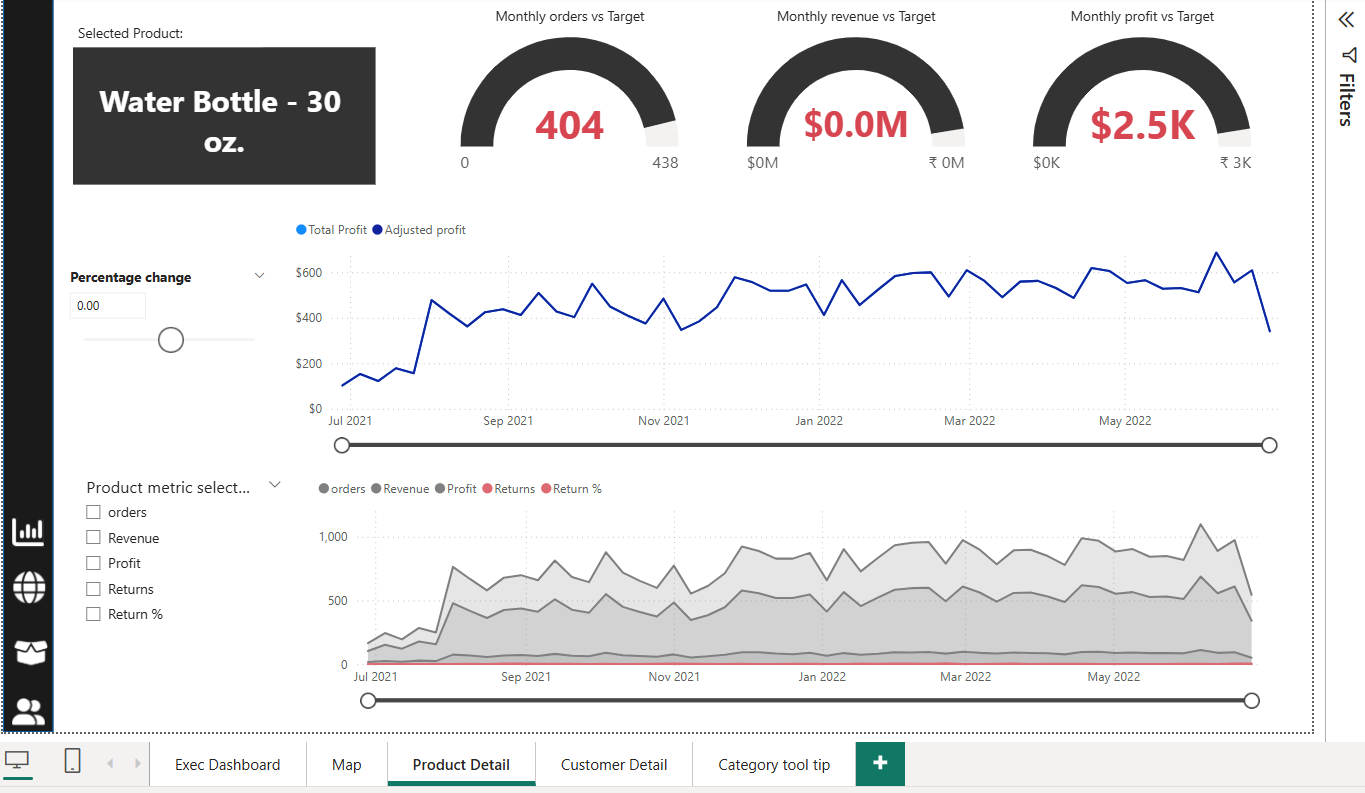

What the dashboard file says about the page in this screenshot:
{"tool":"powerbi","page":{"name":"Product Detail","canvas":[1280,720],"ordinal":2},"visuals":[{"type":"gauge","title":"Monthly revenue vs Target ","fields":{"Y":["Measures Table.Total Revenue"],"MaxValue":["Measures Table.Target Revenue"]},"box":[722.7,9.8,223.8,182.2],"z":0},{"type":"actionButton","box":[4.3,679.6,41.8,40.4],"z":0,"group":"g1"},{"type":"gauge","title":"Monthly orders vs Target ","fields":{"Y":["Measures Table.Total orders"],"MaxValue":["Measures Table.Target Orders"]},"box":[442.7,9.8,223.8,182.2],"z":1000},{"type":"actionButton","box":[7.2,621.9,41.8,40.4],"z":1000,"group":"g1"},{"type":"gauge","title":"Monthly profit vs Target ","fields":{"Y":["Measures Table.Total Profit"],"MaxValue":["Measures Table.Target profit"]},"box":[1002.7,9.8,223.8,182.2],"z":2000},{"type":"actionButton","box":[4.3,504.5,41.6,39.1],"z":2000,"group":"g1"},{"type":"lineChart","title":"Profit Trending","fields":{"Category":["Calendar Lookup.Date Hierarchy.Start of Year","Calendar Lookup.Date Hierarchy.Start of Month","Calendar Lookup.Date Hierarchy.Start of Week","Calendar Lookup.Date Hierarchy.Date"],"Y":["Measures Table.Total Profit","Measures Table.Adjusted profit"]},"box":[281.3,209.1,989.3,240.9],"z":3000},{"type":"actionButton","box":[5.4,558.4,41.3,39.5],"z":3000,"group":"g1"},{"type":"areaChart","title":"Returns Trending","fields":{"Y":["Measures Table.Total orders","Measures Table.Total Revenue","Measures Table.Total Profit","Measures Table.Total Returns","Measures Table.Return Rate"],"Category":["Calendar Lookup.Date Hierarchy.Start of Year","Calendar Lookup.Date Hierarchy.Start of Month","Calendar Lookup.Date Hierarchy.Start of Week","Calendar Lookup.Date Hierarchy.Date"]},"box":[303.5,462.4,949.4,237.6],"z":4000},{"type":"card","fields":{"Values":["Min(Product Lookup.ProductName)"]},"box":[68.4,50.6,296.2,134.2],"z":5000},{"type":"textbox","box":[68.5,22,185.9,28.1],"z":6000},{"type":"shape","box":[0,0,49.4,720.3],"z":7000},{"type":"group","id":"g1","title":"Navigation button","box":[4.3,504.5,44.7,215.5],"z":8000},{"type":"slicer","fields":{"Values":["Parameter.Parameter"]},"box":[52.9,260,216.5,163.5],"z":9000},{"type":"slicer","fields":{"Values":["Product metric selection.Product metric selection"]},"box":[68.2,463.5,216.5,198.8],"z":10000}]}

Visuals, with their boxes on the page's 1280x720 design canvas (x1, y1, x2, y2). These are canvas units, not pixel positions in the 1365x793 screenshot, which may show the page scaled, cropped or inside an application window:
"Monthly revenue vs Target " gauge: pyautogui.locateOnScreen(723, 10, 946, 192)
actionButton: pyautogui.locateOnScreen(4, 680, 46, 720)
"Monthly orders vs Target " gauge: pyautogui.locateOnScreen(443, 10, 666, 192)
actionButton: pyautogui.locateOnScreen(7, 622, 49, 662)
"Monthly profit vs Target " gauge: pyautogui.locateOnScreen(1003, 10, 1226, 192)
actionButton: pyautogui.locateOnScreen(4, 504, 46, 544)
"Profit Trending" lineChart: pyautogui.locateOnScreen(281, 209, 1271, 450)
actionButton: pyautogui.locateOnScreen(5, 558, 47, 598)
"Returns Trending" areaChart: pyautogui.locateOnScreen(304, 462, 1253, 700)
card - Min(Product Lookup.ProductName): pyautogui.locateOnScreen(68, 51, 365, 185)
textbox: pyautogui.locateOnScreen(68, 22, 254, 50)
shape: pyautogui.locateOnScreen(0, 0, 49, 720)
"Navigation button" group: pyautogui.locateOnScreen(4, 504, 49, 720)
slicer - Parameter.Parameter: pyautogui.locateOnScreen(53, 260, 269, 424)
slicer - Product metric selection.Product metric selection: pyautogui.locateOnScreen(68, 464, 285, 662)
